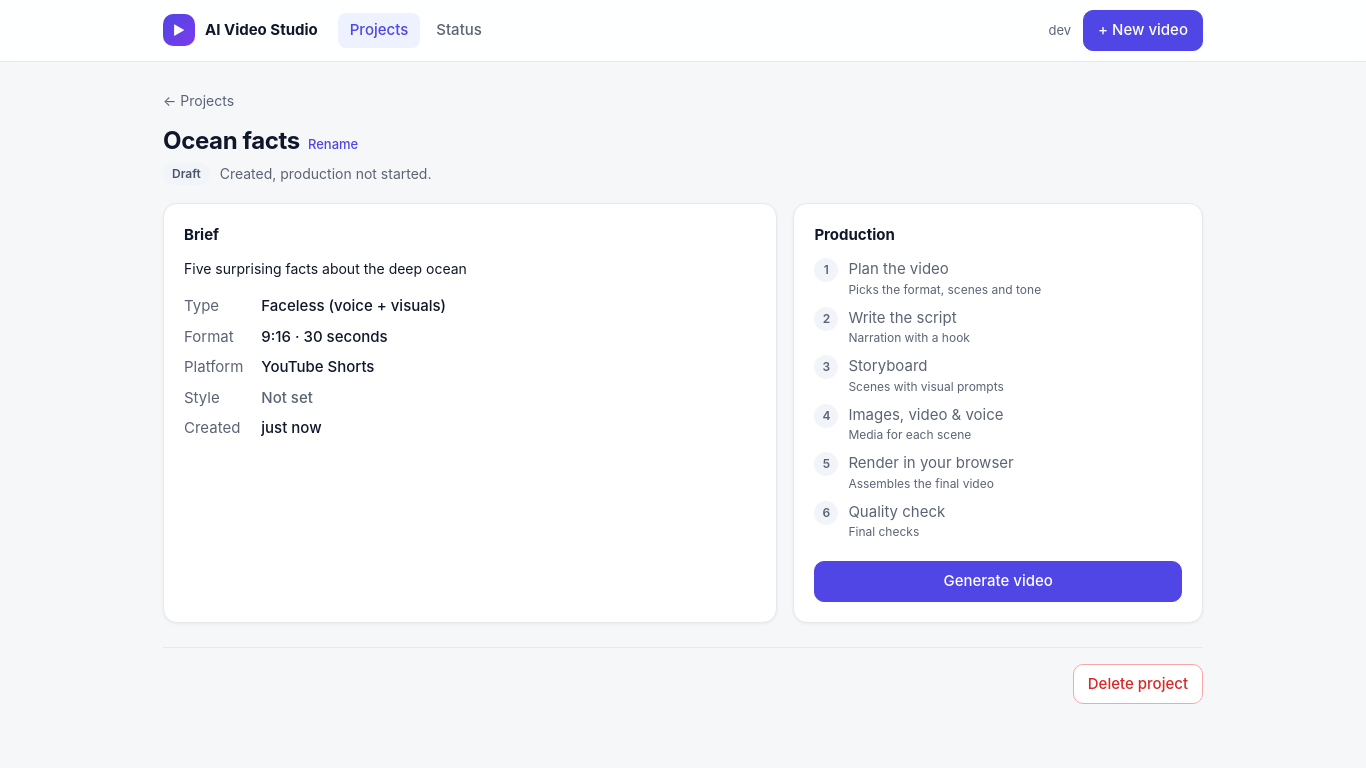
Test: production controls › starts production with an idempotency key and shows the steps live
Click the button "Generate video": x=998, y=581 [814,561,1182,602]
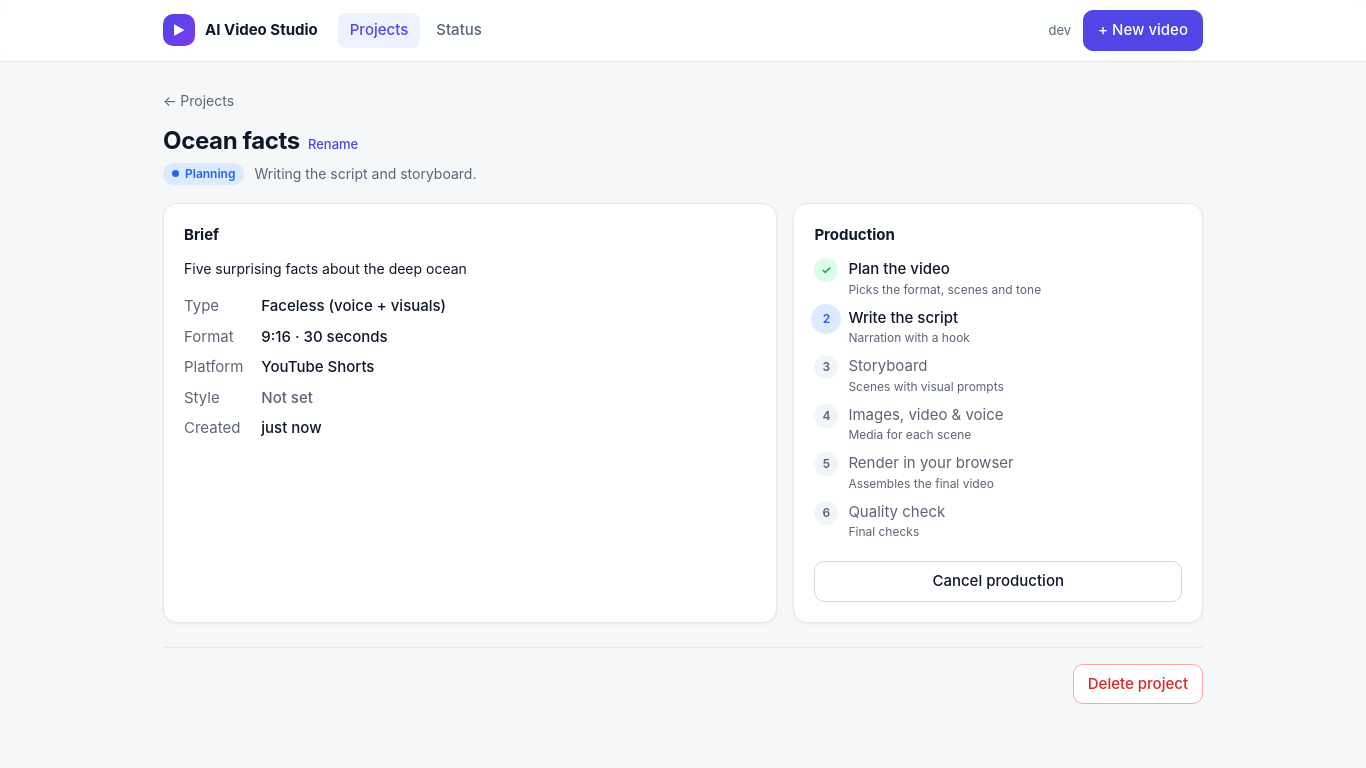
Now the text "Planning" is shown, box [163,162,244,184]
Now the button "Cancel production" is shown, box [814,561,1182,602]
